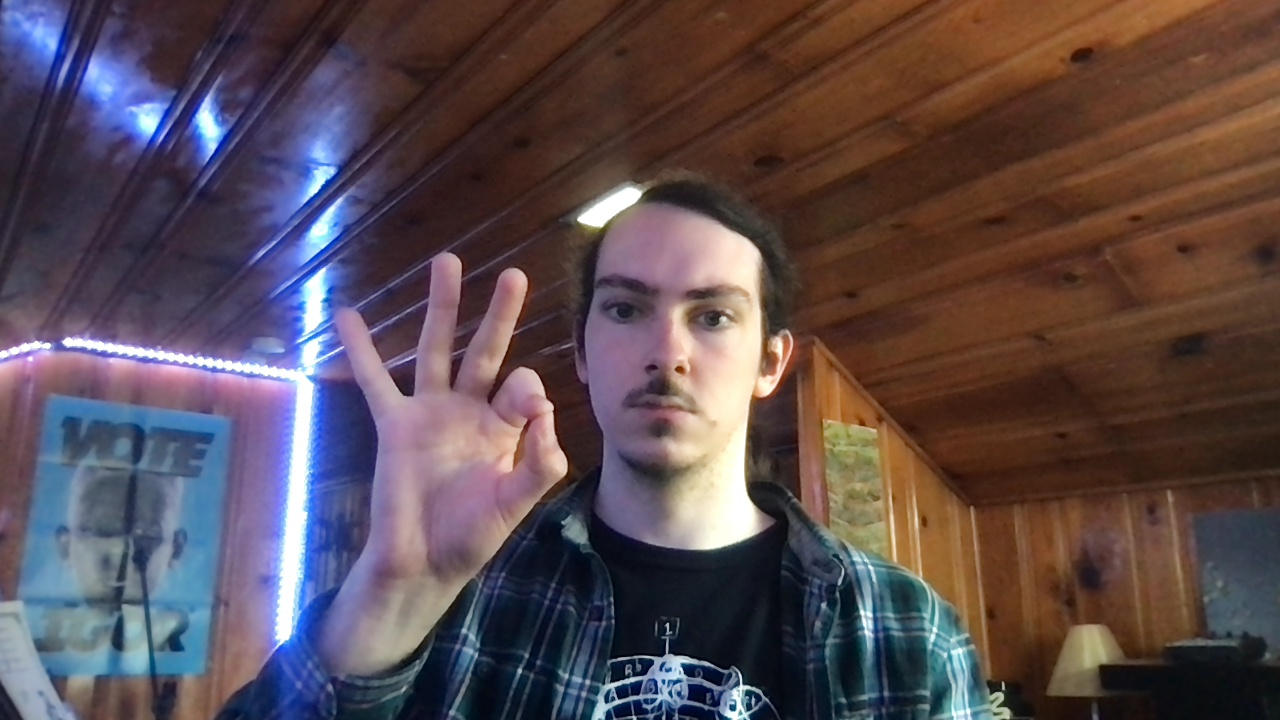f: (332, 249, 572, 581)
